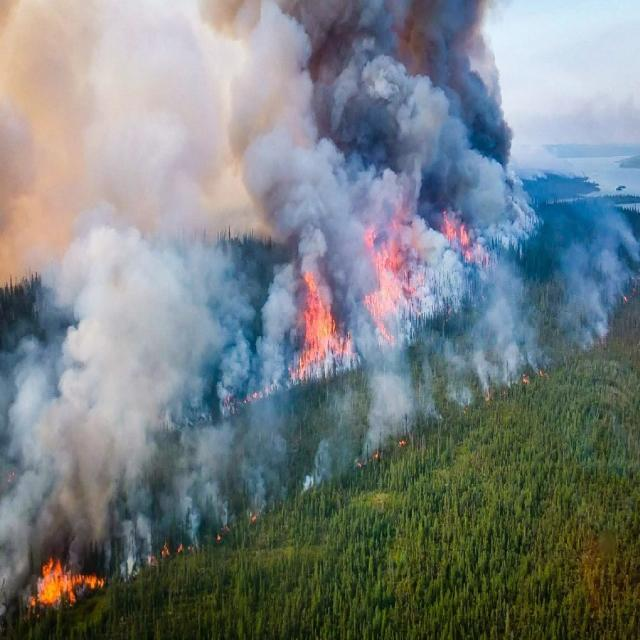Fire: (364, 208, 492, 346), (288, 271, 361, 383), (27, 558, 104, 610), (220, 384, 281, 416), (160, 541, 196, 560), (357, 448, 383, 468), (217, 524, 230, 542), (398, 438, 408, 448), (250, 514, 260, 524), (523, 374, 532, 384), (540, 369, 549, 377), (148, 558, 158, 564)
Smoke: (0, 0, 216, 531), (218, 0, 502, 203), (562, 188, 640, 356), (218, 204, 288, 381), (218, 418, 334, 508), (494, 203, 540, 366), (364, 349, 416, 445), (290, 206, 364, 271)
